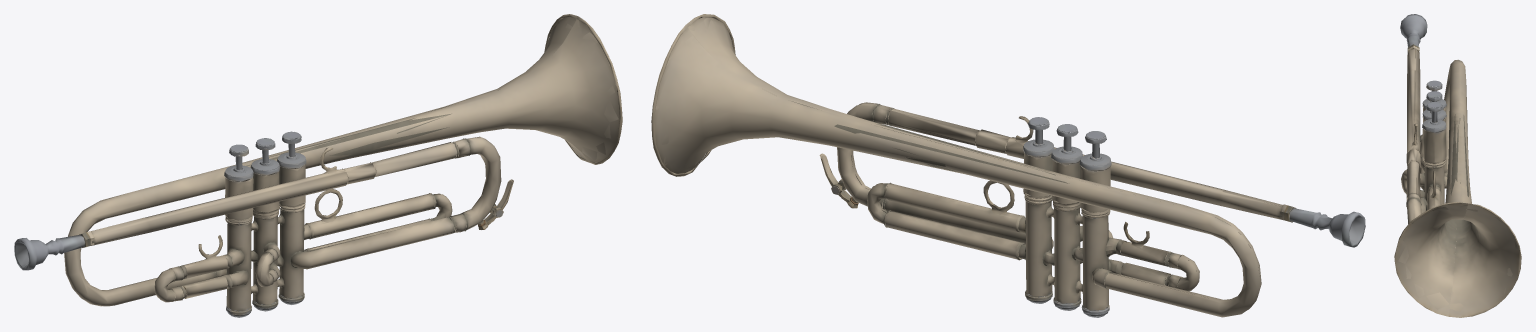
Rendered from worn-trumpet-dca806.glb.
The picture shows the model from 3 angles, left to right: view 1: azimuth 30°, elevation 25°; view 2: azimuth 150°, elevation 25°; view 3: azimuth 270°, elevation 25°; orthographic projection. The views are drawn at different scales.
Parts seen in each view (by area): view 1: PropMesh; view 2: PropMesh; view 3: PropMesh.
Part boxes in pixels (x1,y1,x2,y2): PropMesh: [14, 14, 622, 317]; PropMesh: [651, 14, 1365, 317]; PropMesh: [1394, 14, 1521, 317].
Size of the model in its own units: 0.5419 by 0.1729 by 0.1235.
Materials: 1 (1 with a texture image).
